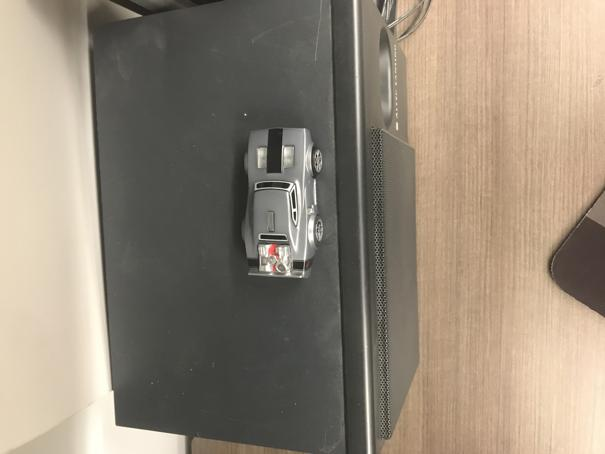Charger: (240, 126, 324, 283)
